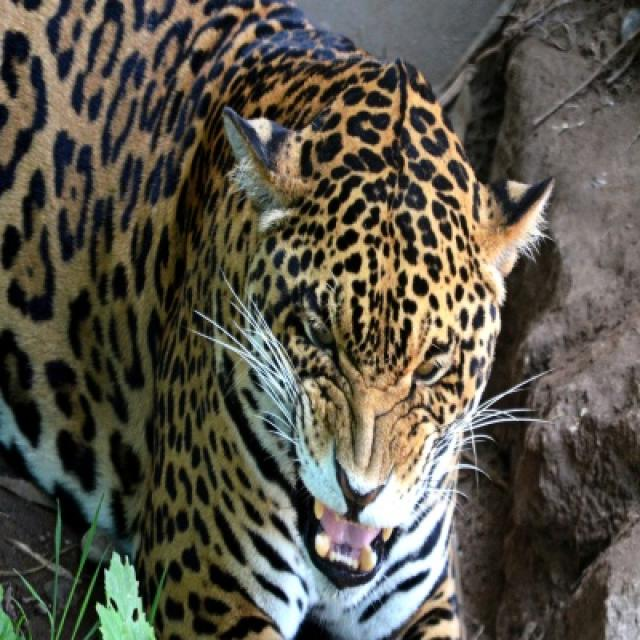Jaguar: (0, 0, 554, 638)
